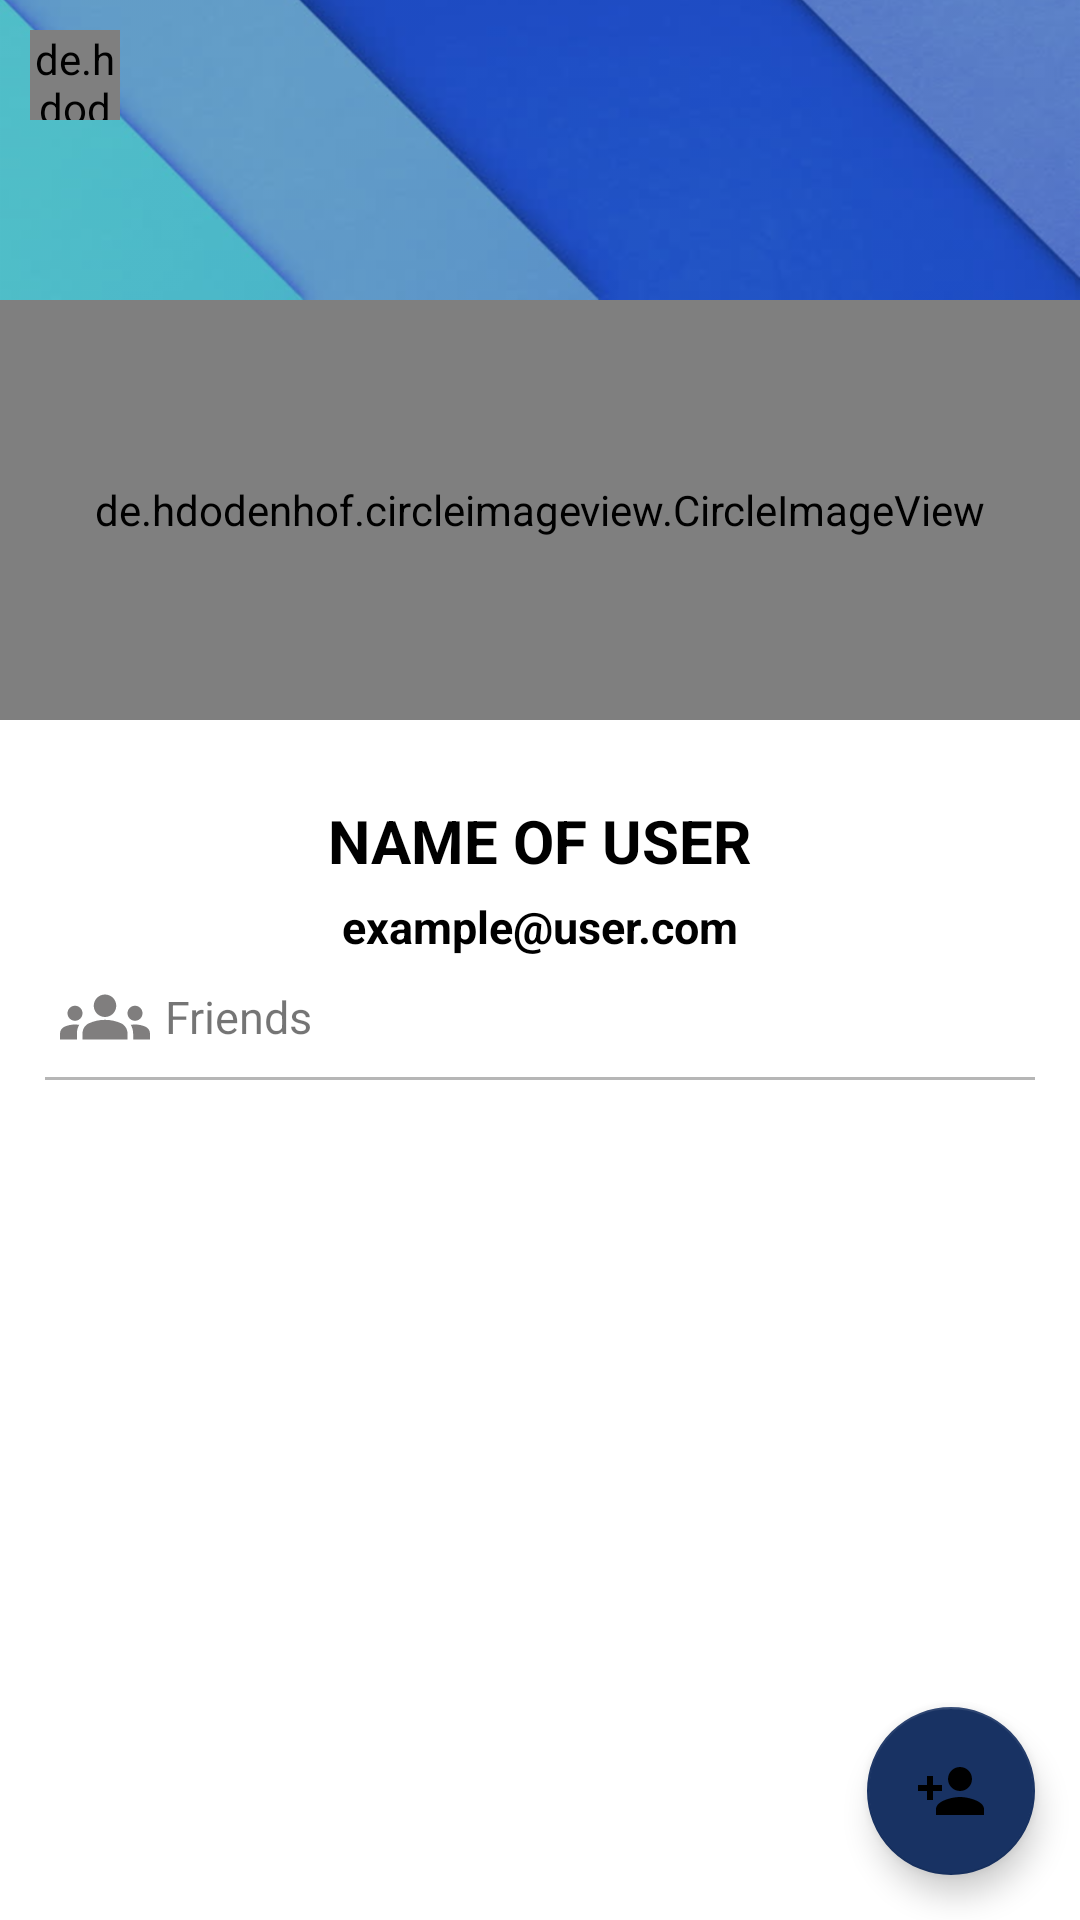

Point at icon controls on the screen. Image size 1080px×1920px, points as (x=x, y=y).
add person: (x=951, y=1791)
